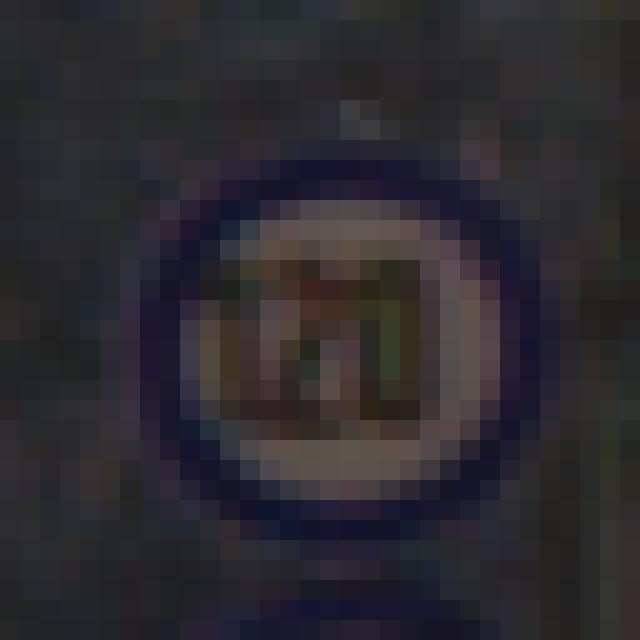SPEED LIMIT 120: (126, 148, 540, 534)
